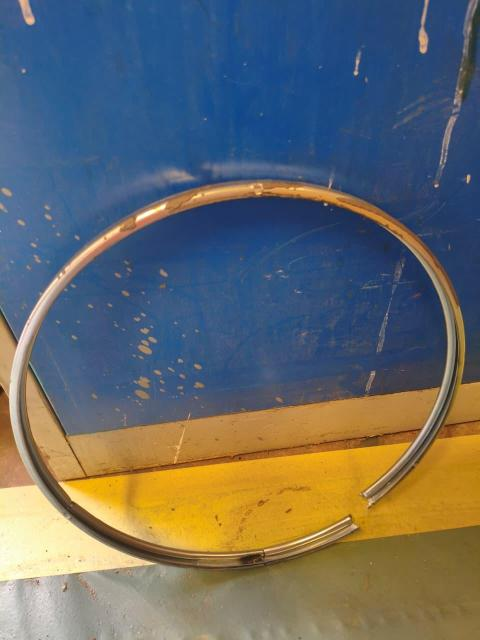Metal: (15, 180, 477, 573)
